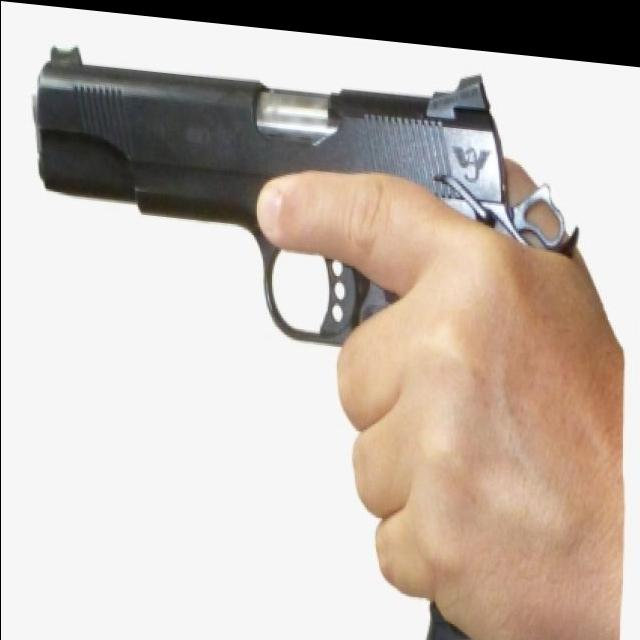handgun: (33, 26, 530, 640)
